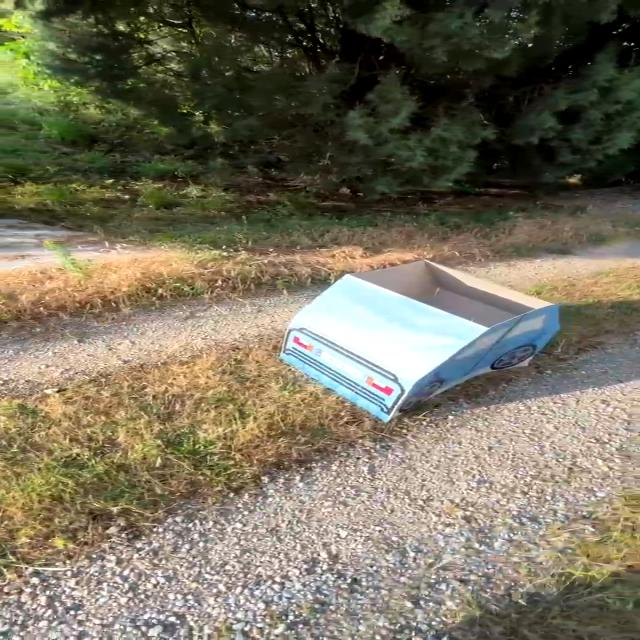blue_car: (229, 240, 589, 431)
